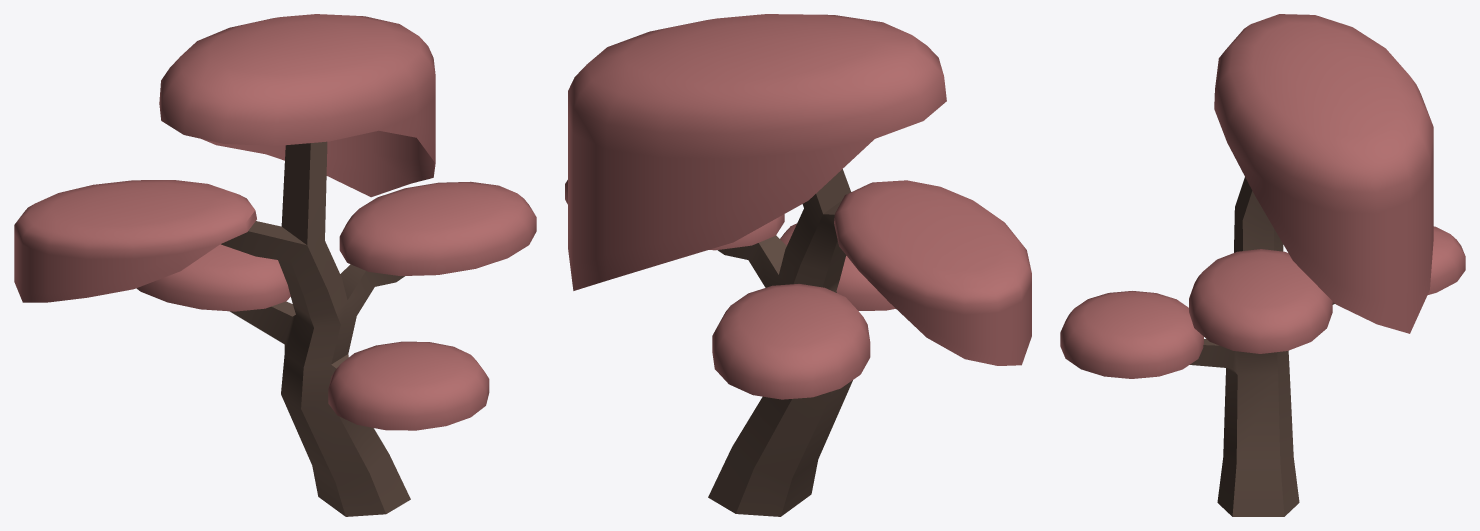
The model's file is M_tree_04.fbx.
3 renders of one model, left to right at view 1: azimuth 30°, elevation 25°; view 2: azimuth 150°, elevation 25°; view 3: azimuth 270°, elevation 25°, orthographic. The views are drawn at different scales.
Visible parts, largest first — view 1: M_lief_sakura00.006, M_tree_04, M_lief_sakura00.003, M_lief_sakura00.002, M_lief_sakura00.001, M_lief_sakura00.004; view 2: M_lief_sakura00.006, M_lief_sakura00.003, M_tree_04, M_lief_sakura00.004, M_lief_sakura00.001, M_lief_sakura00.002; view 3: M_lief_sakura00.006, M_tree_04, M_lief_sakura00.002, M_lief_sakura00.001, M_lief_sakura00.004.
Part boxes in pixels (bbox=[...]): M_lief_sakura00.006: bbox=[159, 14, 435, 197]; M_tree_04: bbox=[221, 141, 410, 516]; M_lief_sakura00.003: bbox=[14, 180, 256, 302]; M_lief_sakura00.002: bbox=[339, 181, 536, 275]; M_lief_sakura00.001: bbox=[328, 341, 489, 430]; M_lief_sakura00.004: bbox=[136, 244, 290, 311]; M_lief_sakura00.006: bbox=[568, 14, 946, 290]; M_lief_sakura00.003: bbox=[834, 180, 1031, 365]; M_tree_04: bbox=[708, 169, 852, 516]; M_lief_sakura00.004: bbox=[712, 284, 870, 399]; M_lief_sakura00.001: bbox=[780, 223, 895, 310]; M_lief_sakura00.002: bbox=[565, 180, 784, 250]; M_lief_sakura00.006: bbox=[1214, 14, 1433, 333]; M_tree_04: bbox=[1190, 177, 1334, 516]; M_lief_sakura00.002: bbox=[1189, 249, 1332, 353]; M_lief_sakura00.001: bbox=[1060, 291, 1203, 378]; M_lief_sakura00.004: bbox=[1332, 226, 1465, 303].
Size of the model in its own units: 925 by 874 by 758.
